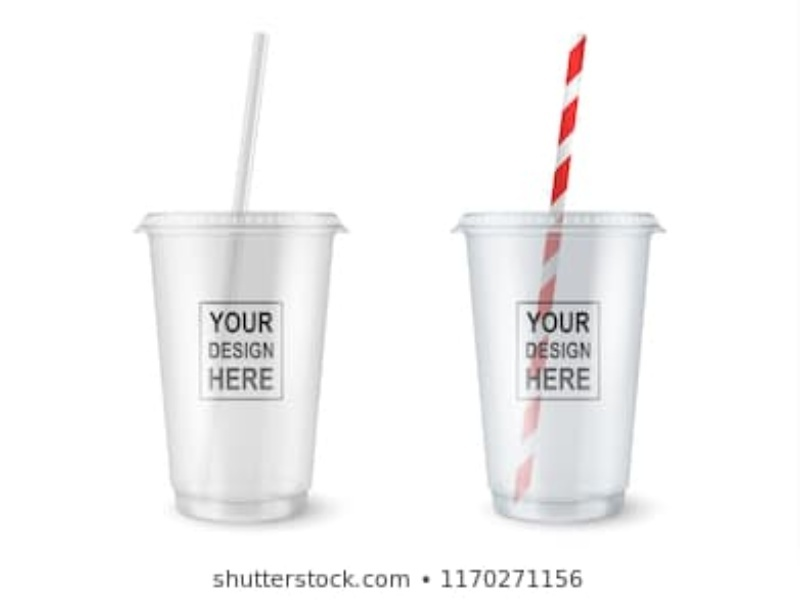plastic-cup: (445, 209, 668, 534), (132, 208, 343, 523)
straw: (508, 30, 588, 510), (191, 30, 270, 492)
